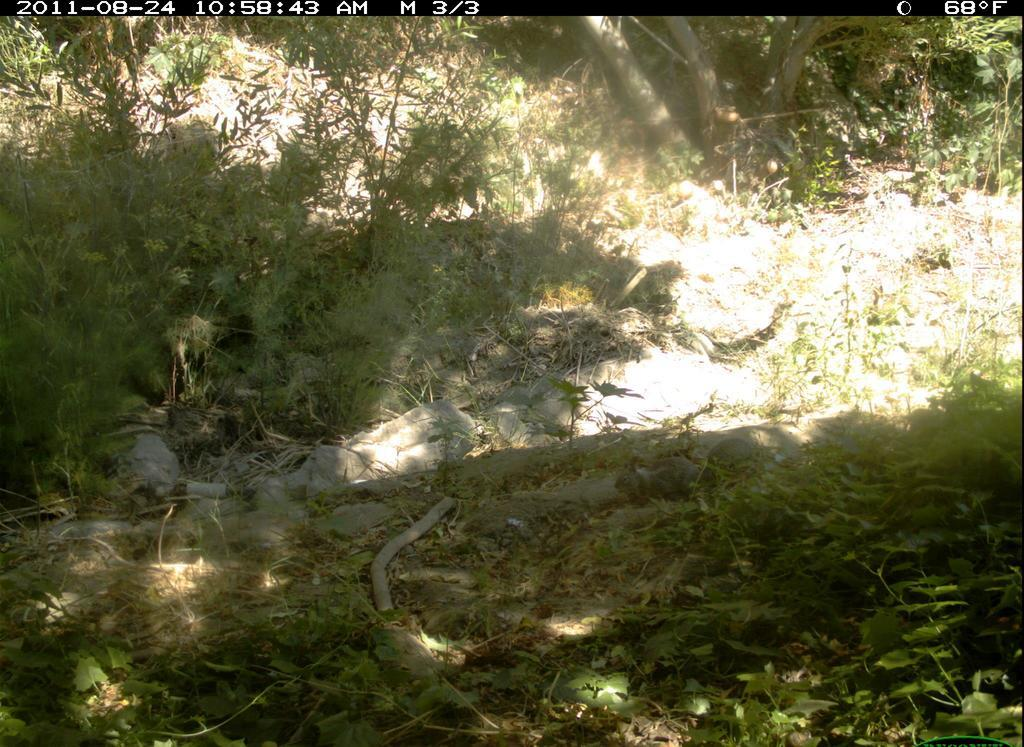squirrel: (600, 437, 761, 513)
